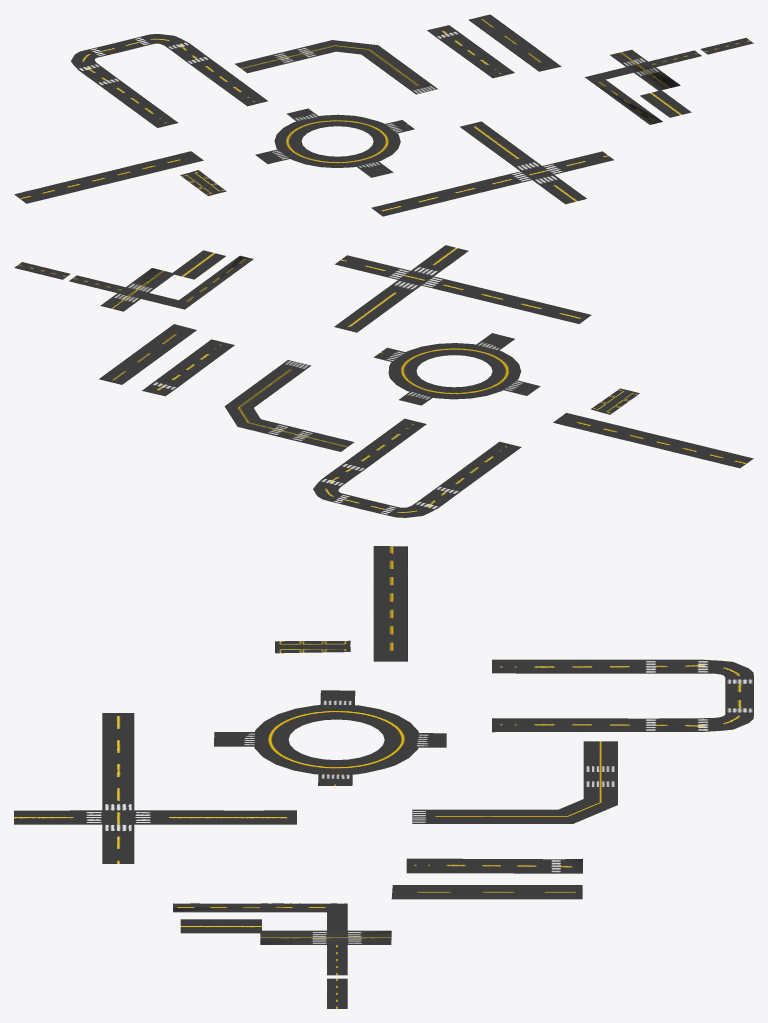
Rendered from Street_Parts.fbx.
3 views of the same model, one above another, from view 1: azimuth 30°, elevation 25°; view 2: azimuth 150°, elevation 25°; view 3: azimuth 270°, elevation 25° (orthographic). The views are drawn at different scales.
Visible parts, largest first — view 1: Streets.008, Streets.005, Streets.007, Streets.010, Streets.012, Streets.009, Streets.006, Streets.011, Streets.014, Streets.003, Streets.013; view 2: Streets.008, Streets.005, Streets.007, Streets.010, Streets.012, Streets.009, Streets.006, Streets.011, Streets.014, Streets.003; view 3: Streets.008, Streets.005, Streets.007, Streets.010, Streets.012, Streets.009, Streets.006, Streets.011, Streets.014, Streets.003.
Boxes of the visible parts, bbox=[...] form: Streets.008: bbox=[371, 121, 613, 216]; Streets.005: bbox=[71, 34, 267, 127]; Streets.007: bbox=[255, 108, 414, 177]; Streets.010: bbox=[235, 40, 437, 94]; Streets.012: bbox=[585, 49, 701, 124]; Streets.009: bbox=[14, 151, 203, 203]; Streets.006: bbox=[469, 14, 561, 71]; Streets.011: bbox=[427, 25, 514, 78]; Streets.014: bbox=[640, 90, 691, 117]; Streets.003: bbox=[180, 170, 226, 195]; Streets.013: bbox=[700, 38, 753, 54]; Streets.008: bbox=[334, 245, 591, 332]; Streets.005: bbox=[313, 418, 521, 517]; Streets.007: bbox=[373, 333, 540, 405]; Streets.010: bbox=[224, 360, 354, 451]; Streets.012: bbox=[69, 255, 253, 311]; Streets.009: bbox=[553, 413, 753, 468]; Streets.006: bbox=[99, 324, 196, 384]; Streets.011: bbox=[142, 339, 234, 396]; Streets.014: bbox=[173, 250, 225, 279]; Streets.003: bbox=[591, 388, 639, 414]; Streets.008: bbox=[14, 713, 296, 863]; Streets.005: bbox=[492, 659, 753, 732]; Streets.007: bbox=[214, 690, 446, 785]; Streets.010: bbox=[412, 741, 617, 823]; Streets.012: bbox=[173, 903, 391, 975]; Streets.009: bbox=[373, 546, 407, 661]; Streets.006: bbox=[391, 885, 582, 899]; Streets.011: bbox=[406, 858, 582, 873]; Streets.014: bbox=[180, 919, 261, 933]; Streets.003: bbox=[275, 640, 350, 653].
Size of the model in its own units: 6517 by 12.77 by 4403.
2 materials, 2 textured.
